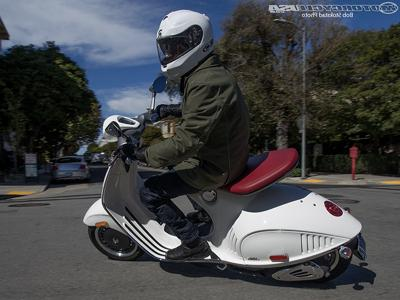With Helmet: (154, 6, 215, 82)
